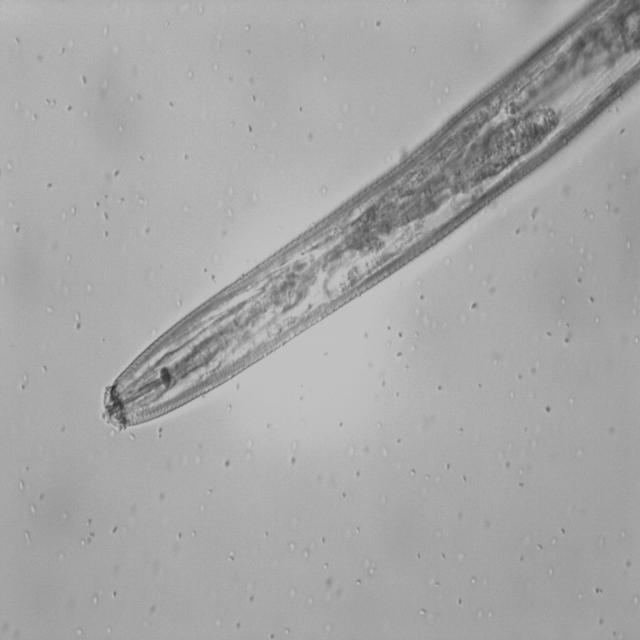Radopholus: (96, 0, 640, 448)
